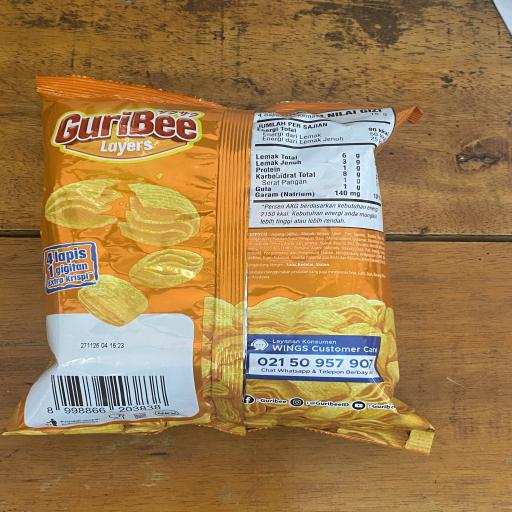Guribee Layers Keju Cripsy: (28, 73, 434, 454)
